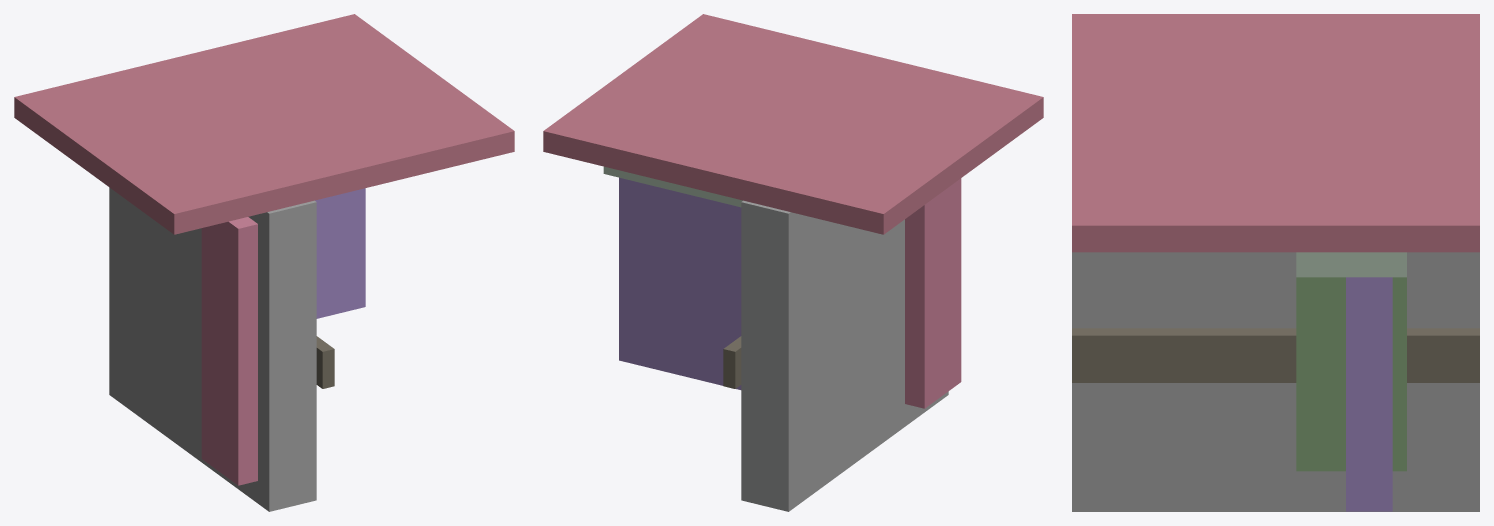
3 views of the same model, side by side, from view 1: azimuth 30°, elevation 25°; view 2: azimuth 150°, elevation 25°; view 3: azimuth 270°, elevation 25° (orthographic). The views are drawn at different scales.
Visible parts, largest first — view 1: world; view 2: world; view 3: world.
Boxes of the visible parts, <box> form: world: <box>14,14,514,511</box>; world: <box>543,14,1043,511</box>; world: <box>1072,14,1479,511</box>.
Size of the model in its own units: 8.6 by 7.75 by 7.
